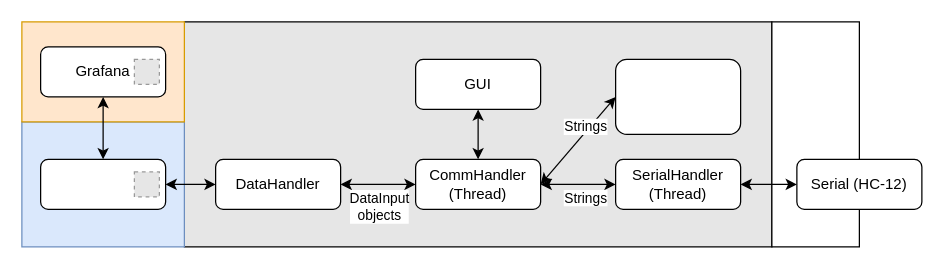
The diagram is 944 pixels wide and 269 high, and some of its shapes have lost their labels. Grey dashed boxes stand in for pictures. Each missing label, with the box of its shape:
GSMHandler/ Websockets? (Thread): (614, 58, 741, 134)
InfluxDB: (39, 158, 166, 209)
OS: (771, 21, 859, 247)
